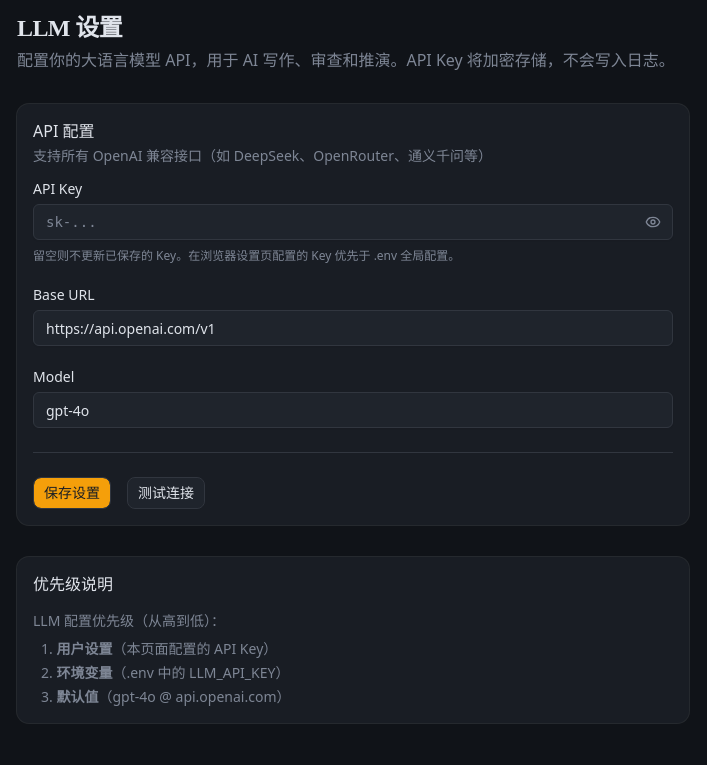
SettingsPage › updates masked api key display after save
Type "sk-test-key-123456" into the password field labelled "API Key" at (353, 222), box [33,204,673,240]
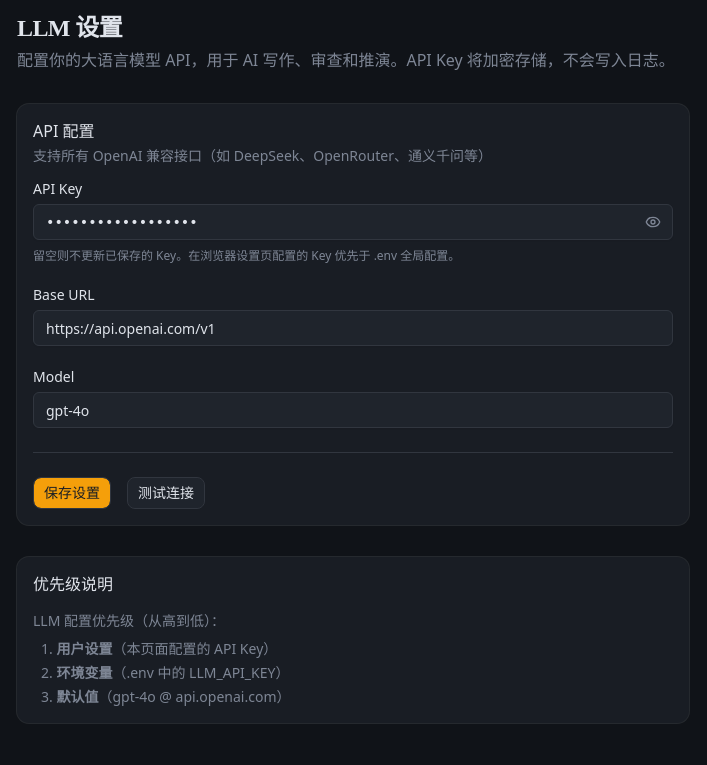
Click the button "保存设置" at (72, 493), box [33,477,111,509]
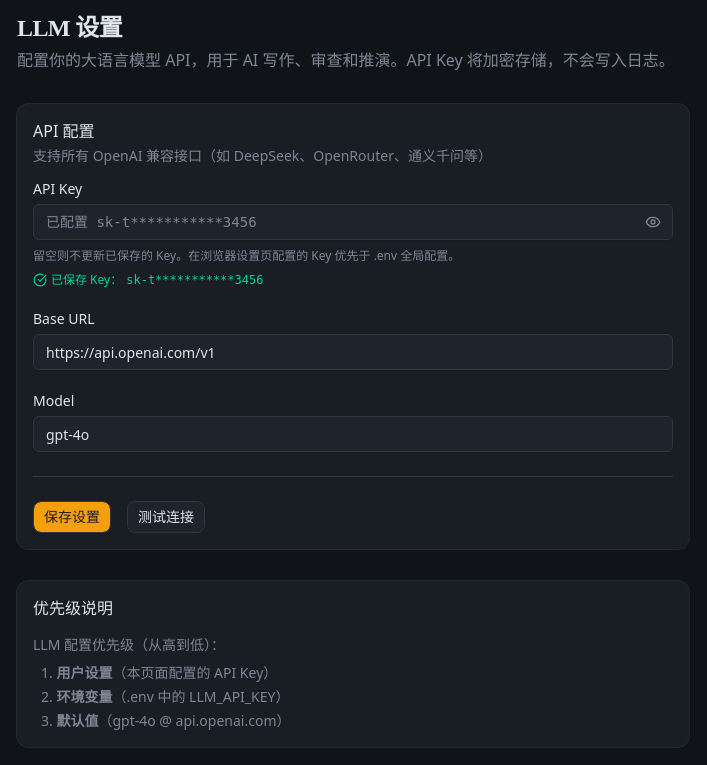
Now the text "sk-t***********3456" is shown, box [126,272,264,288]
